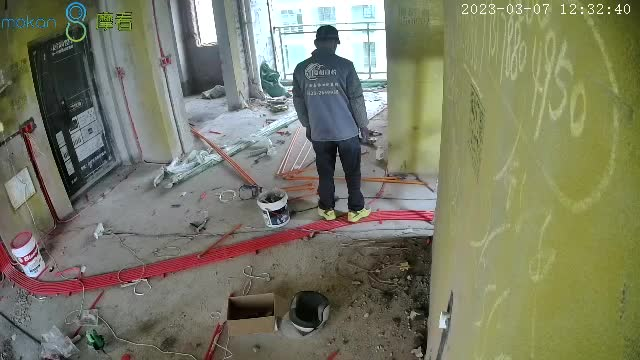people: (292, 25, 370, 223)
window: (266, 1, 388, 78)
